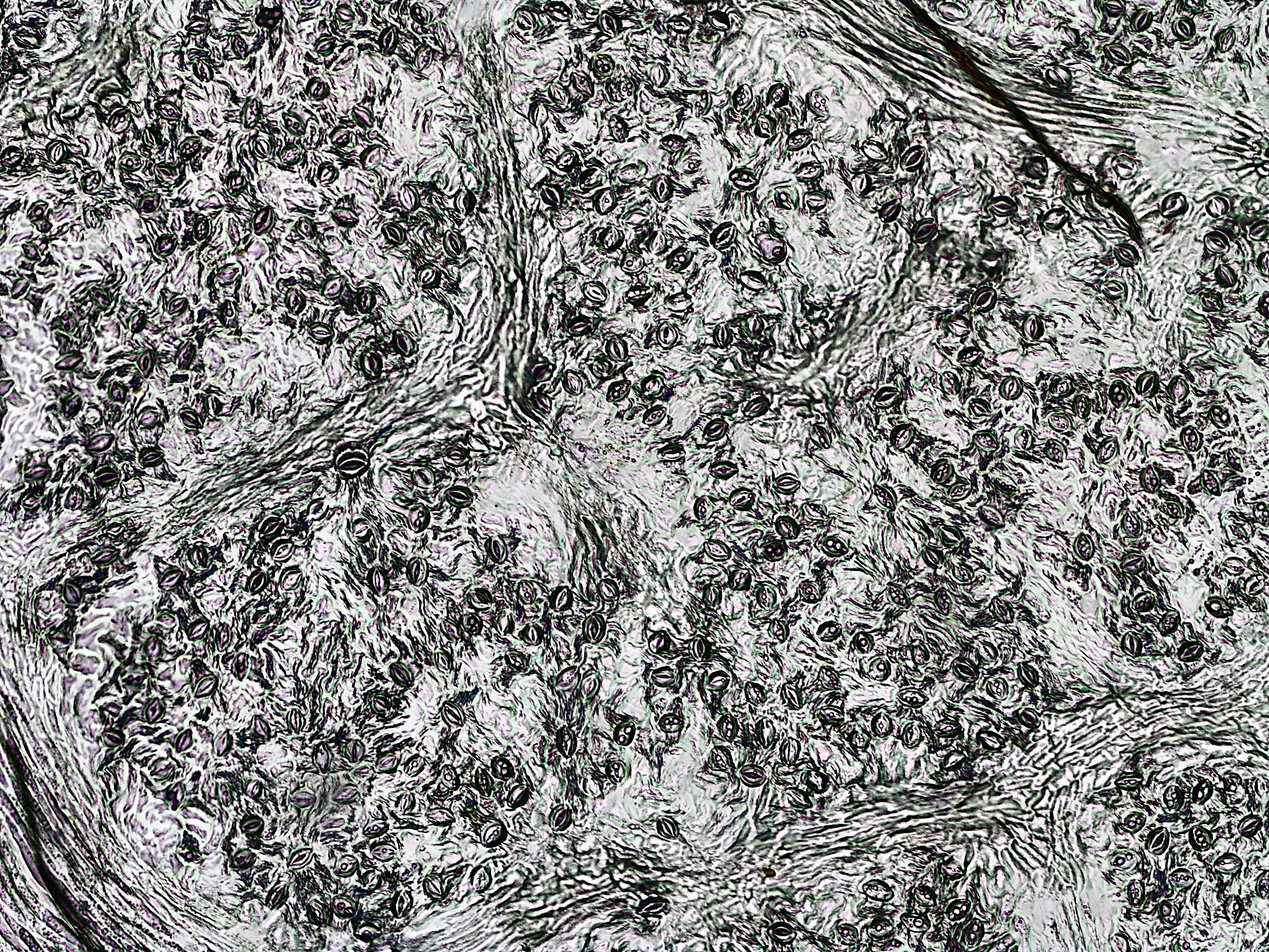stomata: (754, 232, 786, 264), (335, 448, 368, 478), (675, 153, 710, 177), (360, 143, 387, 172), (909, 218, 938, 245), (729, 166, 759, 192), (862, 878, 893, 903), (596, 9, 623, 37), (583, 612, 607, 643), (367, 564, 390, 596), (278, 111, 306, 137), (1108, 849, 1141, 871), (442, 230, 467, 259), (806, 89, 831, 118), (872, 482, 897, 511), (1103, 43, 1133, 67), (556, 725, 577, 759), (407, 502, 430, 533), (406, 555, 429, 586), (961, 917, 984, 948), (711, 222, 737, 249), (666, 246, 693, 272), (480, 821, 507, 847), (884, 581, 911, 607), (900, 145, 925, 173), (895, 688, 928, 709), (485, 534, 508, 564), (766, 921, 796, 944), (1045, 64, 1071, 90), (415, 262, 440, 289), (1161, 193, 1188, 218), (307, 899, 332, 926), (359, 351, 383, 379), (593, 187, 617, 215), (441, 700, 465, 728), (650, 173, 673, 202), (549, 803, 572, 832), (738, 764, 767, 787), (1181, 425, 1204, 454), (253, 205, 275, 235), (313, 741, 333, 774), (241, 96, 262, 127), (1200, 467, 1221, 498), (320, 274, 345, 300), (1171, 16, 1196, 42), (1113, 242, 1139, 267), (438, 615, 463, 641), (890, 423, 915, 449), (702, 417, 729, 441), (809, 423, 833, 450), (1119, 511, 1143, 538), (756, 716, 775, 750), (391, 328, 414, 356), (766, 82, 789, 110), (390, 890, 413, 918), (951, 658, 979, 681), (1095, 435, 1118, 463), (399, 183, 421, 212), (266, 881, 288, 910), (866, 916, 895, 938), (1109, 380, 1131, 409), (1223, 894, 1245, 923), (619, 208, 649, 229), (701, 579, 722, 609), (1112, 155, 1137, 180), (774, 185, 799, 210), (604, 759, 629, 784), (971, 286, 996, 311), (569, 71, 593, 97), (539, 182, 563, 208), (307, 321, 334, 344), (466, 587, 493, 610), (1136, 371, 1159, 398), (708, 460, 739, 480), (474, 766, 494, 797), (1212, 854, 1243, 874), (991, 594, 1011, 625), (454, 188, 476, 216), (285, 287, 307, 315), (731, 84, 753, 112), (664, 291, 692, 313), (144, 697, 166, 725), (1163, 785, 1185, 813), (874, 386, 902, 408), (656, 320, 677, 349), (1140, 464, 1161, 493), (0, 145, 25, 169), (136, 191, 160, 216), (306, 76, 330, 101), (326, 124, 351, 148), (543, 1, 573, 21), (528, 99, 548, 129), (729, 487, 754, 511), (819, 536, 849, 556), (410, 464, 435, 488), (550, 586, 574, 611), (245, 569, 269, 594), (375, 749, 400, 773), (491, 756, 515, 781), (422, 874, 447, 898), (780, 737, 800, 767), (932, 718, 962, 738), (216, 262, 242, 285), (589, 54, 615, 77), (785, 786, 811, 809), (1168, 867, 1194, 890), (1042, 208, 1069, 230), (743, 395, 770, 417), (801, 501, 828, 523), (561, 369, 583, 396), (470, 865, 492, 892), (716, 714, 738, 741), (978, 729, 1005, 751), (688, 634, 710, 661), (1190, 824, 1212, 851), (1147, 828, 1169, 855), (1158, 609, 1180, 636), (1073, 533, 1095, 560), (84, 433, 115, 452), (989, 196, 1017, 217), (773, 473, 801, 494), (703, 539, 731, 560), (444, 486, 472, 507), (1205, 596, 1233, 617), (691, 88, 711, 117), (609, 114, 629, 143), (231, 652, 251, 681), (816, 705, 845, 725), (81, 206, 105, 230), (149, 757, 173, 781), (390, 662, 414, 686), (107, 109, 132, 132), (252, 134, 275, 159), (775, 516, 800, 539), (607, 380, 632, 403), (332, 894, 357, 917), (710, 746, 733, 771), (556, 666, 579, 691), (1167, 376, 1190, 401), (999, 375, 1022, 400), (980, 504, 1005, 527), (930, 459, 953, 484), (409, 0, 431, 26), (547, 83, 569, 109), (1130, 7, 1152, 33), (599, 227, 625, 249), (194, 676, 220, 698), (369, 694, 395, 716), (911, 885, 937, 907), (816, 620, 842, 642), (781, 683, 803, 709), (1120, 811, 1146, 833), (945, 315, 971, 337), (990, 474, 1020, 493), (344, 737, 365, 764), (229, 848, 256, 869), (1017, 661, 1038, 688), (1022, 313, 1043, 340), (20, 9, 48, 29), (378, 27, 398, 55), (414, 44, 434, 72), (143, 635, 163, 663), (900, 914, 931, 932), (381, 221, 405, 244), (514, 7, 538, 30), (885, 99, 909, 122), (1204, 231, 1228, 254), (605, 338, 628, 362), (598, 578, 621, 602), (306, 497, 329, 521), (333, 854, 357, 877), (868, 657, 891, 681), (1043, 439, 1066, 463), (1224, 521, 1248, 544), (795, 162, 824, 181), (1114, 772, 1143, 791), (803, 289, 832, 308), (271, 539, 296, 561), (507, 784, 529, 809), (705, 670, 730, 692), (871, 712, 893, 737), (755, 585, 777, 610), (1120, 632, 1142, 657), (117, 151, 143, 172), (1215, 27, 1236, 53), (651, 666, 677, 687), (1192, 778, 1213, 804), (1120, 552, 1146, 573), (972, 430, 998, 451), (638, 897, 670, 914), (154, 101, 181, 121), (694, 495, 714, 522), (713, 321, 733, 348), (440, 764, 460, 791), (425, 807, 455, 825), (1126, 880, 1146, 907), (1158, 899, 1178, 926), (289, 790, 317, 809), (1176, 642, 1204, 661), (191, 59, 214, 82), (878, 199, 901, 222), (818, 666, 841, 689), (280, 143, 304, 165), (787, 129, 811, 151), (727, 569, 751, 591), (762, 539, 786, 561), (943, 749, 967, 771), (986, 677, 1008, 701), (799, 580, 821, 604), (1237, 815, 1261, 837), (177, 136, 202, 157), (126, 309, 147, 334), (626, 285, 651, 306), (582, 281, 607, 302), (259, 516, 284, 537), (433, 647, 454, 672), (614, 721, 635, 746), (746, 681, 767, 706), (218, 300, 236, 329), (656, 443, 685, 461), (442, 447, 471, 465), (353, 925, 382, 943), (331, 206, 357, 226), (188, 542, 208, 568), (705, 9, 731, 29), (516, 579, 536, 605), (333, 783, 359, 803), (287, 847, 313, 867), (958, 346, 984, 366), (12, 31, 39, 50), (230, 33, 249, 60), (740, 270, 767, 289), (580, 673, 599, 700), (902, 722, 921, 749), (215, 622, 232, 652), (214, 727, 231, 757), (80, 171, 102, 194), (351, 105, 374, 127), (1215, 263, 1237, 286), (280, 567, 302, 590), (837, 923, 860, 945), (848, 728, 871, 750), (952, 562, 975, 584), (184, 17, 212, 35), (318, 160, 339, 184), (296, 216, 317, 240), (649, 63, 670, 87), (851, 173, 872, 197), (1024, 157, 1048, 178), (617, 163, 641, 184), (645, 231, 666, 255), (522, 622, 543, 646), (494, 611, 515, 635), (253, 714, 271, 742), (404, 754, 425, 778), (807, 769, 828, 793), (1048, 412, 1072, 433), (1050, 376, 1074, 397), (863, 140, 888, 160), (1100, 279, 1125, 299), (641, 405, 666, 425), (745, 312, 765, 337), (351, 518, 371, 543), (228, 171, 247, 197), (286, 708, 305, 734), (363, 819, 389, 838), (659, 714, 685, 733), (934, 586, 951, 615), (65, 484, 83, 511), (660, 134, 687, 152), (47, 141, 69, 163), (1206, 196, 1228, 218), (1058, 25, 1080, 47), (946, 898, 968, 920), (647, 630, 669, 652), (755, 115, 776, 138), (640, 375, 663, 396), (251, 608, 274, 629), (656, 817, 679, 838), (1243, 574, 1266, 595), (23, 464, 53, 480), (94, 467, 118, 487), (179, 410, 203, 430), (567, 316, 591, 336), (100, 729, 124, 749), (1209, 405, 1229, 429), (1013, 427, 1033, 451), (940, 370, 960, 394), (1198, 292, 1223, 311), (938, 526, 963, 545), (175, 728, 193, 754), (1226, 446, 1244, 472), (155, 234, 176, 256), (90, 287, 112, 308), (579, 168, 601, 189), (505, 650, 526, 672), (1017, 707, 1039, 728), (853, 632, 874, 654), (1132, 591, 1154, 612), (557, 150, 577, 173), (532, 363, 555, 383), (462, 612, 482, 635), (395, 792, 415, 815), (1161, 500, 1184, 520), (1222, 556, 1245, 576), (947, 481, 970, 501), (940, 860, 964, 879), (797, 327, 816, 351), (58, 101, 83, 119), (667, 15, 692, 33), (372, 844, 397, 862), (911, 640, 929, 665), (1073, 394, 1091, 419), (137, 348, 153, 376), (28, 199, 49, 220), (531, 392, 552, 413), (582, 776, 603, 797), (976, 641, 997, 662), (805, 190, 827, 210), (969, 397, 991, 417), (922, 546, 942, 568), (63, 394, 82, 417), (356, 288, 375, 311), (186, 620, 209, 639), (770, 619, 789, 642), (177, 341, 193, 368), (240, 815, 264, 833), (169, 782, 184, 810), (362, 870, 383, 890), (334, 3, 356, 22), (109, 380, 128, 402), (63, 582, 82, 604), (617, 77, 635, 100), (56, 355, 83, 370), (92, 549, 119, 564), (203, 395, 222, 416), (590, 360, 611, 379), (154, 162, 176, 180), (160, 570, 182, 588), (140, 449, 164, 465), (140, 408, 159, 428), (11, 279, 30, 299), (218, 782, 233, 807), (193, 217, 210, 239), (315, 36, 334, 55), (142, 127, 159, 148), (168, 296, 187, 314), (245, 780, 263, 798), (153, 614, 177, 627), (103, 522, 125, 535), (20, 494, 40, 508)
